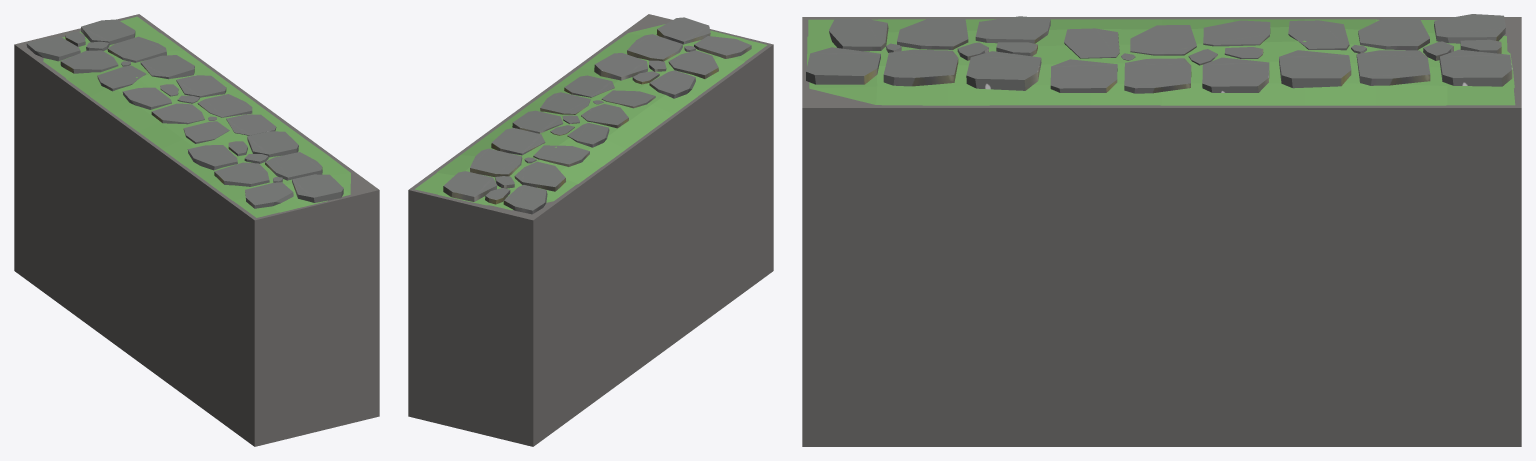
Rendered from road.glb.
3 renders of one model, left to right at view 1: azimuth 30°, elevation 25°; view 2: azimuth 150°, elevation 25°; view 3: azimuth 270°, elevation 25°, orthographic. The views are drawn at different scales.
Parts seen in each view (by area): view 1: Cube, Plane, node_id4_Material_57_0, node_id4_Material_57_0.002, node_id4_Material_57_0.001; view 2: Cube, Plane, node_id4_Material_57_0.002, node_id4_Material_57_0, node_id4_Material_57_0.001; view 3: Cube, Plane, node_id4_Material_57_0, node_id4_Material_57_0.002, node_id4_Material_57_0.001.
Boxes of the visible parts, left/top/right/bottom form: Cube: left=14, top=14, right=379, bottom=446; Plane: left=43, top=16, right=350, bottom=217; node_id4_Material_57_0: left=187, top=131, right=343, bottom=208; node_id4_Material_57_0.002: left=26, top=19, right=194, bottom=91; node_id4_Material_57_0.001: left=122, top=75, right=276, bottom=143; Cube: left=408, top=14, right=773, bottom=446; Plane: left=415, top=24, right=767, bottom=210; node_id4_Material_57_0.002: left=443, top=128, right=589, bottom=214; node_id4_Material_57_0: left=594, top=17, right=751, bottom=98; node_id4_Material_57_0.001: left=512, top=75, right=655, bottom=147; Cube: left=802, top=17, right=1521, bottom=446; Plane: left=807, top=19, right=1515, bottom=105; node_id4_Material_57_0: left=806, top=16, right=1050, bottom=90; node_id4_Material_57_0.002: left=1279, top=14, right=1512, bottom=88; node_id4_Material_57_0.001: left=1050, top=20, right=1270, bottom=93.
Size of the model in its own units: 0.3 by 0.542 by 1.
Materials: 5 (3 with a texture image).
